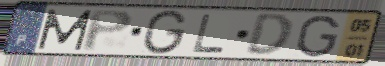D: (242, 12, 294, 58)
G: (139, 9, 189, 56), (295, 14, 342, 59)
L: (191, 13, 227, 54)
M: (35, 8, 95, 52)
P: (81, 9, 136, 53)
